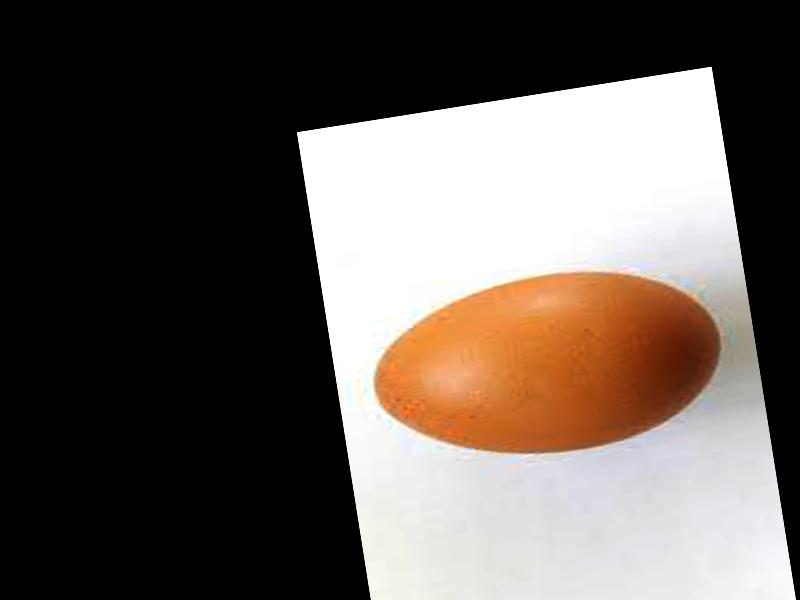Eggs: (362, 251, 731, 479)
